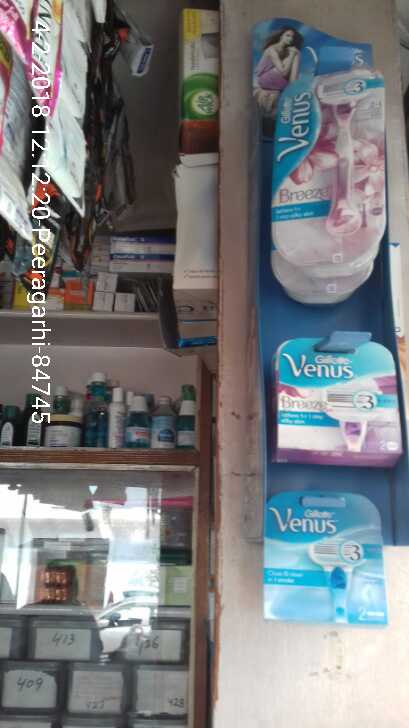venus: (267, 55, 384, 296), (263, 488, 389, 629), (266, 328, 394, 461)
